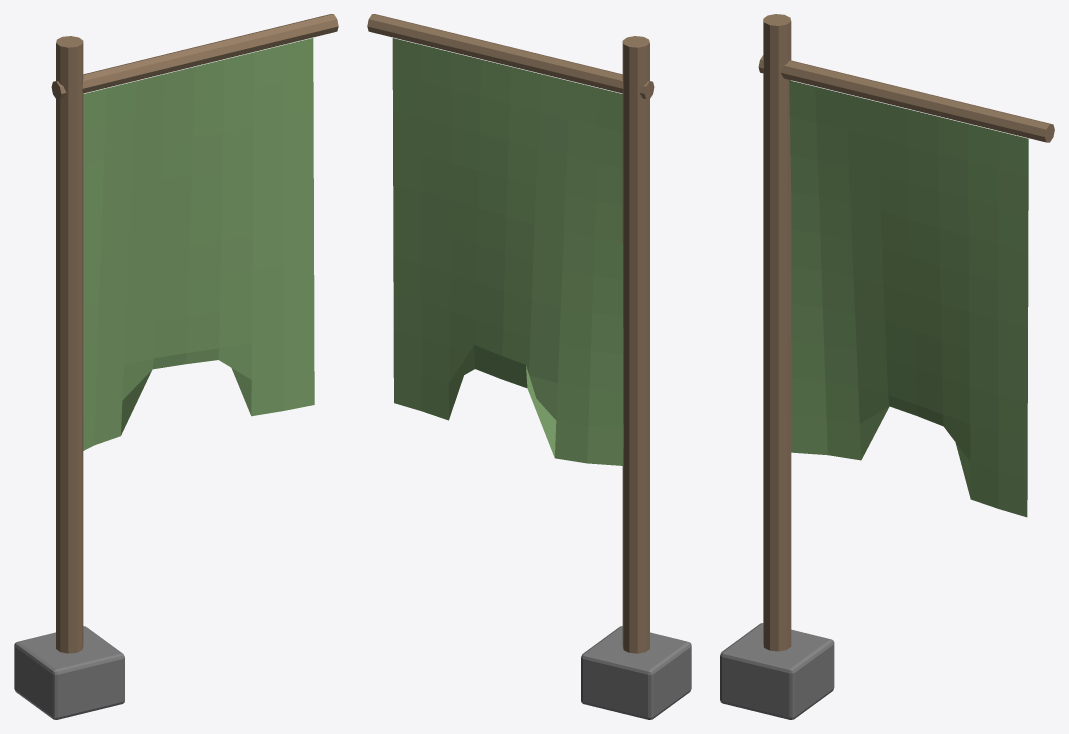
The model's file is banner-green.glb.
3 renders of one model, left to right at view 1: azimuth 30°, elevation 25°; view 2: azimuth 150°, elevation 25°; view 3: azimuth 330°, elevation 25°, orthographic. The views are drawn at different scales.
Parts seen in each view (by area): view 1: cloth, pole, base, bar; view 2: cloth, pole, base, bar; view 3: cloth, pole, base, bar.
Part boxes in pixels (box(x1,y1,x2,y2)): cloth: box(83, 38, 314, 450); pole: box(56, 36, 83, 653); base: box(14, 626, 124, 719); bar: box(51, 14, 338, 99); cloth: box(392, 38, 623, 465); pole: box(622, 36, 649, 653); base: box(581, 626, 691, 719); bar: box(367, 14, 654, 99); cloth: box(789, 80, 1028, 517); pole: box(763, 14, 791, 651); base: box(720, 623, 834, 719); bar: box(758, 55, 1054, 142).
Size of the model in its own units: 1.24 by 2.6 by 0.3.
3 materials, 1 textured.
